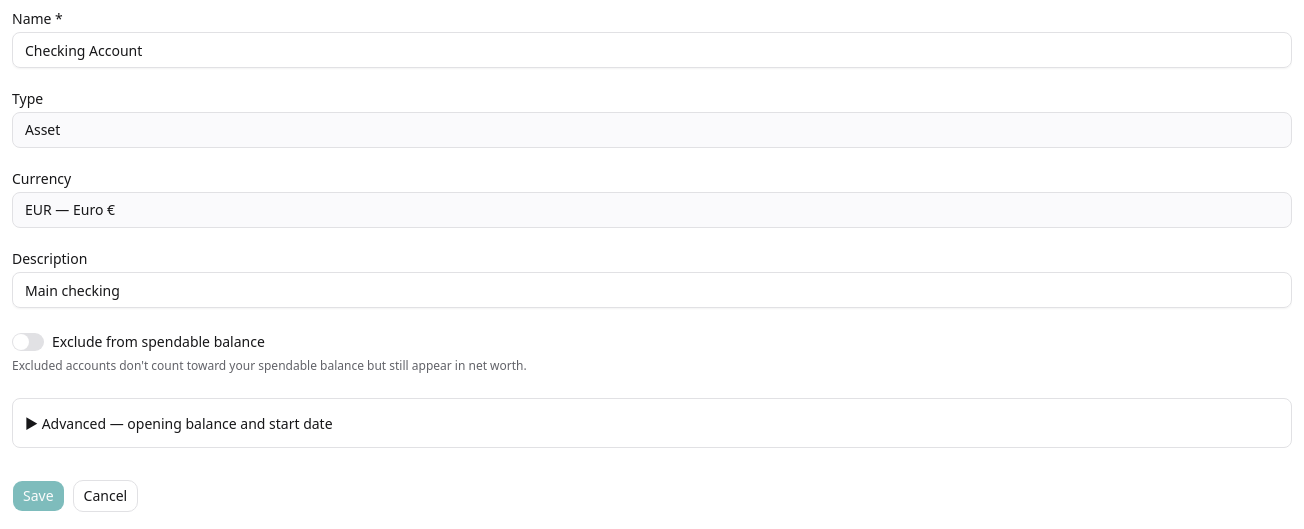
Test: AccountForm › Save enables when Name changes
Replace the text in the field labelled "Name *" with "Renamed" at (652, 50), box [12,32,1292,68]
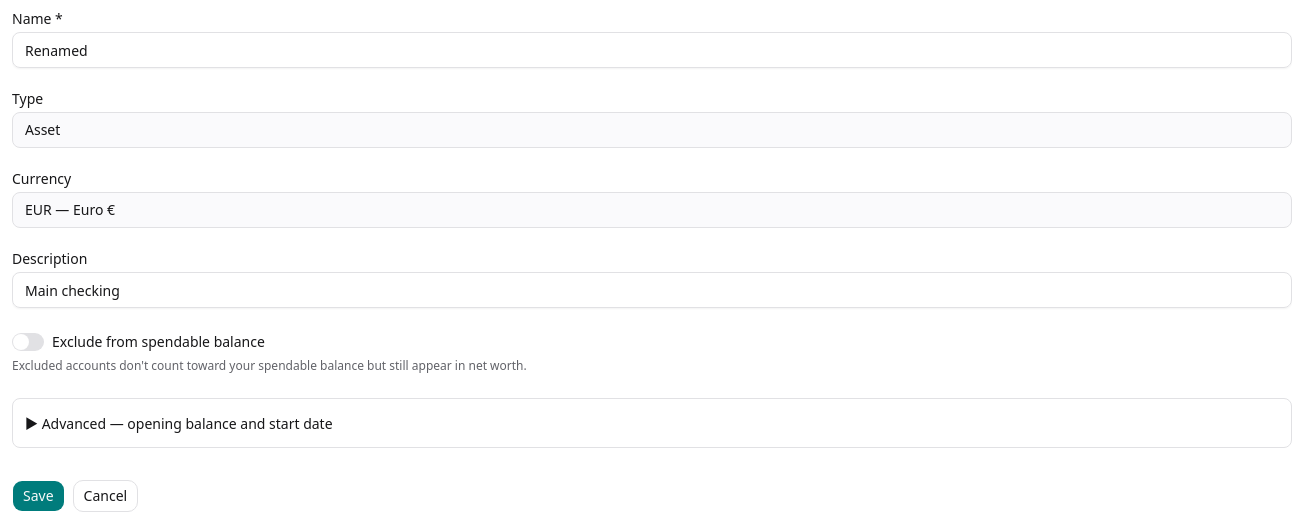
expect the button "Save" is enabled: met, box [12,480,65,512]
